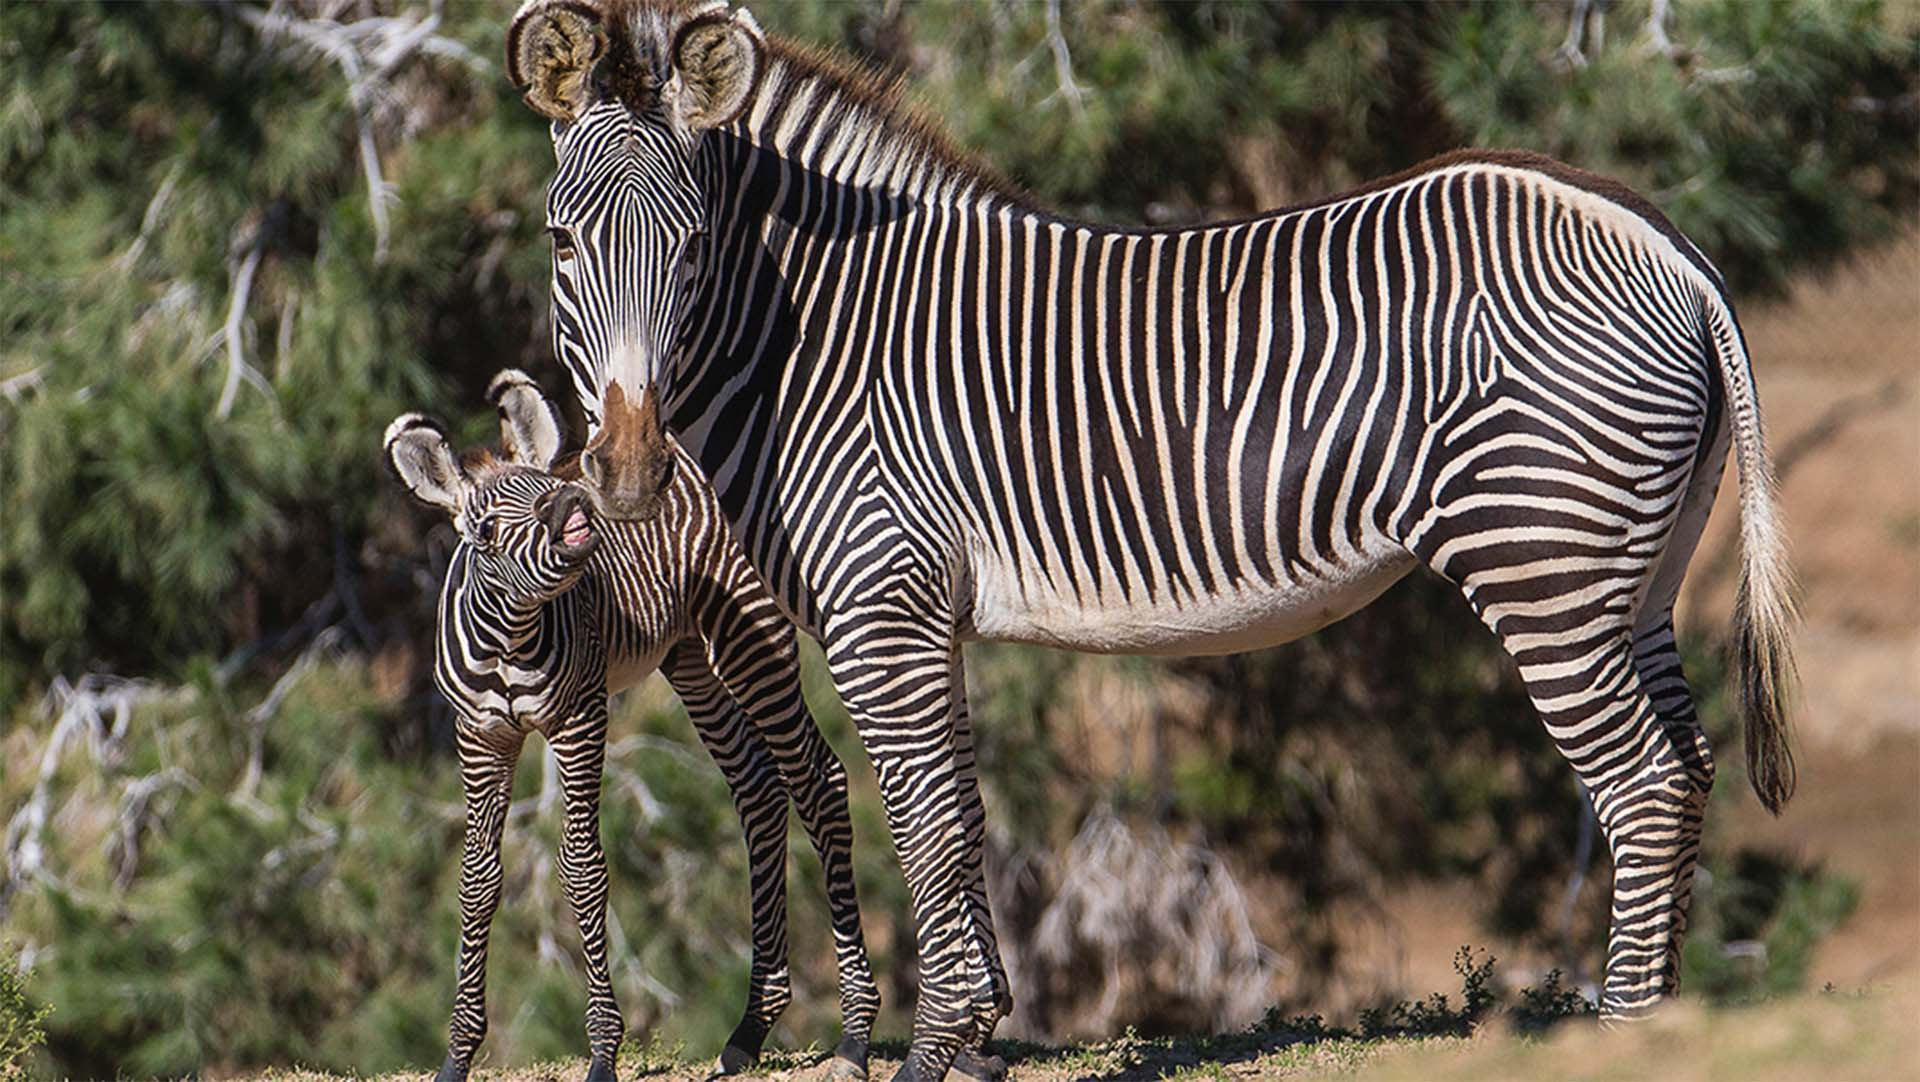zebra: (505, 7, 1782, 1046), (335, 351, 837, 1082)
